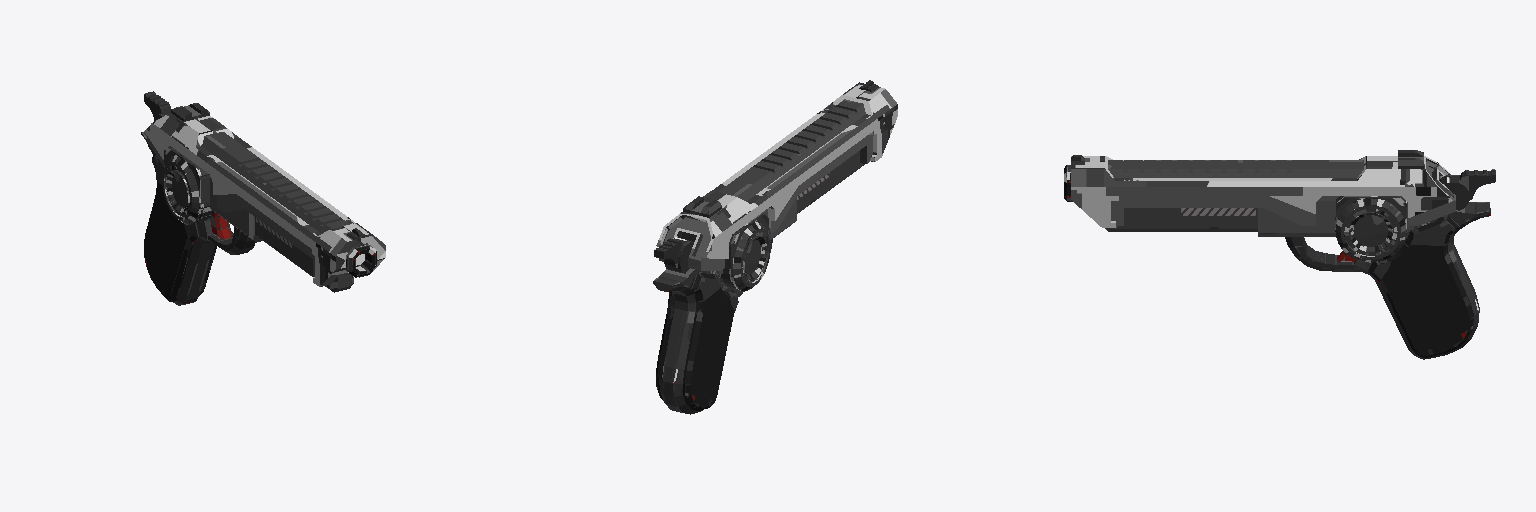
3 renders of one model, left to right at view 1: azimuth 30°, elevation 25°; view 2: azimuth 150°, elevation 25°; view 3: azimuth 270°, elevation 25°, orthographic.
Visible parts, largest first — view 1: Slider.003_Cube.038, Padding.003_Cube.047, Railing.003_Cube.039, Energy_Source.003_Cylinder.006, Grip.003_Cube.045, Body_2.003_Cube.037, Muzzle.003_Cube.040, Body.003_Cube.036, Trigger_Guard.003_Cube.044; view 2: Slider.003_Cube.038, Padding.003_Cube.047, Railing.003_Cube.039, Grip.003_Cube.045, Energy_Source.003_Cylinder.006, Body_2.003_Cube.037, Hammer.003_Cube.041; view 3: Slider.003_Cube.038, Padding.003_Cube.047, Railing.003_Cube.039, Energy_Source.003_Cylinder.006, Body_2.003_Cube.037, Grip.003_Cube.045, Body.003_Cube.036, Trigger_Guard.003_Cube.044, Hammer.003_Cube.041, Hammer_Pivot.003_Cylinder.007.
Boxes of the visible parts, x1=… form: Slider.003_Cube.038: x1=144, y1=113, x2=385, y2=286; Padding.003_Cube.047: x1=144, y1=154, x2=216, y2=301; Railing.003_Cube.039: x1=202, y1=132, x2=349, y2=233; Energy_Source.003_Cylinder.006: x1=162, y1=146, x2=213, y2=224; Grip.003_Cube.045: x1=141, y1=132, x2=230, y2=305; Body_2.003_Cube.037: x1=255, y1=217, x2=353, y2=292; Muzzle.003_Cube.040: x1=344, y1=243, x2=376, y2=277; Body.003_Cube.036: x1=210, y1=177, x2=262, y2=242; Trigger_Guard.003_Cube.044: x1=208, y1=227, x2=255, y2=254; Slider.003_Cube.038: x1=656, y1=82, x2=897, y2=270; Padding.003_Cube.047: x1=656, y1=272, x2=738, y2=410; Railing.003_Cube.039: x1=719, y1=99, x2=865, y2=201; Grip.003_Cube.045: x1=653, y1=268, x2=742, y2=414; Energy_Source.003_Cylinder.006: x1=718, y1=214, x2=770, y2=291; Body_2.003_Cube.037: x1=797, y1=151, x2=864, y2=213; Hammer.003_Cube.041: x1=654, y1=238, x2=681, y2=267; Slider.003_Cube.038: x1=1071, y1=156, x2=1455, y2=227; Padding.003_Cube.047: x1=1368, y1=214, x2=1473, y2=357; Railing.003_Cube.039: x1=1108, y1=160, x2=1363, y2=177; Energy_Source.003_Cylinder.006: x1=1335, y1=196, x2=1406, y2=262; Body_2.003_Cube.037: x1=1105, y1=208, x2=1257, y2=231; Grip.003_Cube.045: x1=1354, y1=202, x2=1490, y2=359; Body.003_Cube.036: x1=1258, y1=196, x2=1436, y2=236; Trigger_Guard.003_Cube.044: x1=1285, y1=237, x2=1353, y2=271; Hammer.003_Cube.041: x1=1460, y1=169, x2=1495, y2=200; Hammer_Pivot.003_Cylinder.007: x1=1439, y1=175, x2=1469, y2=210.
Bounding box in the file's own units: 0.6386 × 1.84 × 3.59.
Materials: 1 (1 with a texture image).